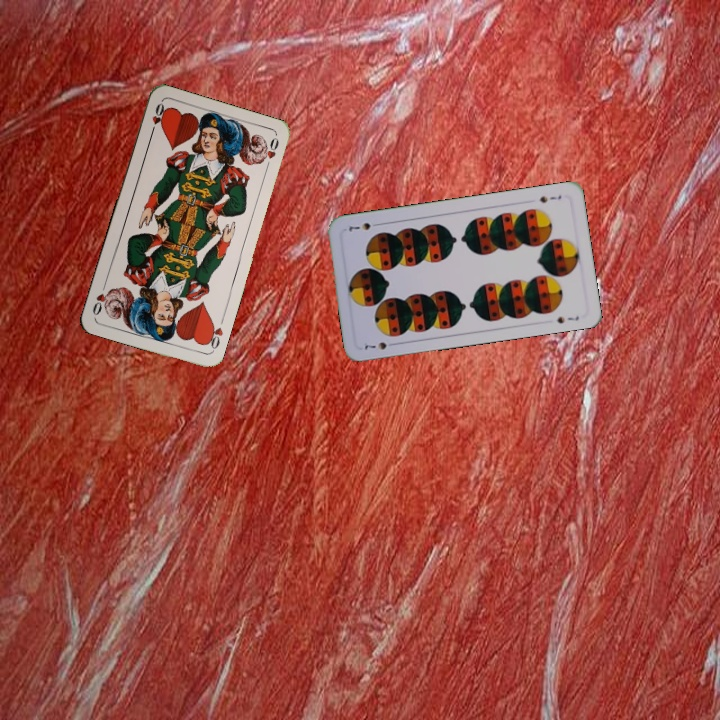HO: (146, 99, 168, 138), (202, 319, 226, 354)
S7: (359, 338, 399, 353), (536, 191, 564, 205)
